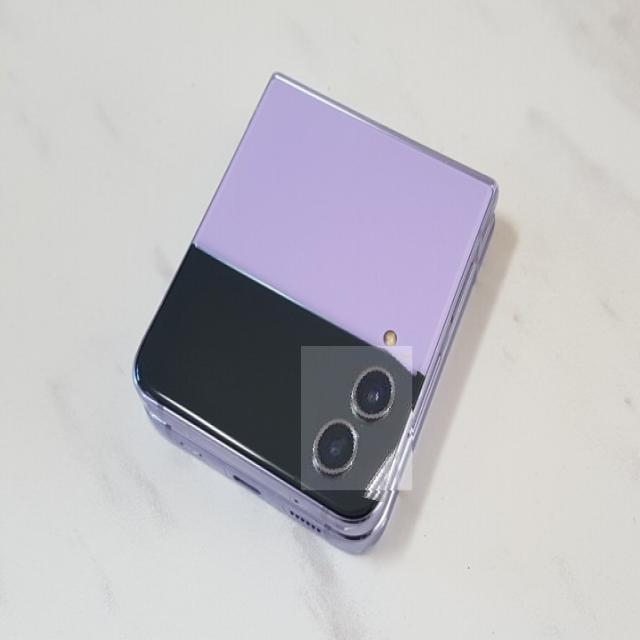phone: (140, 72, 496, 564)
